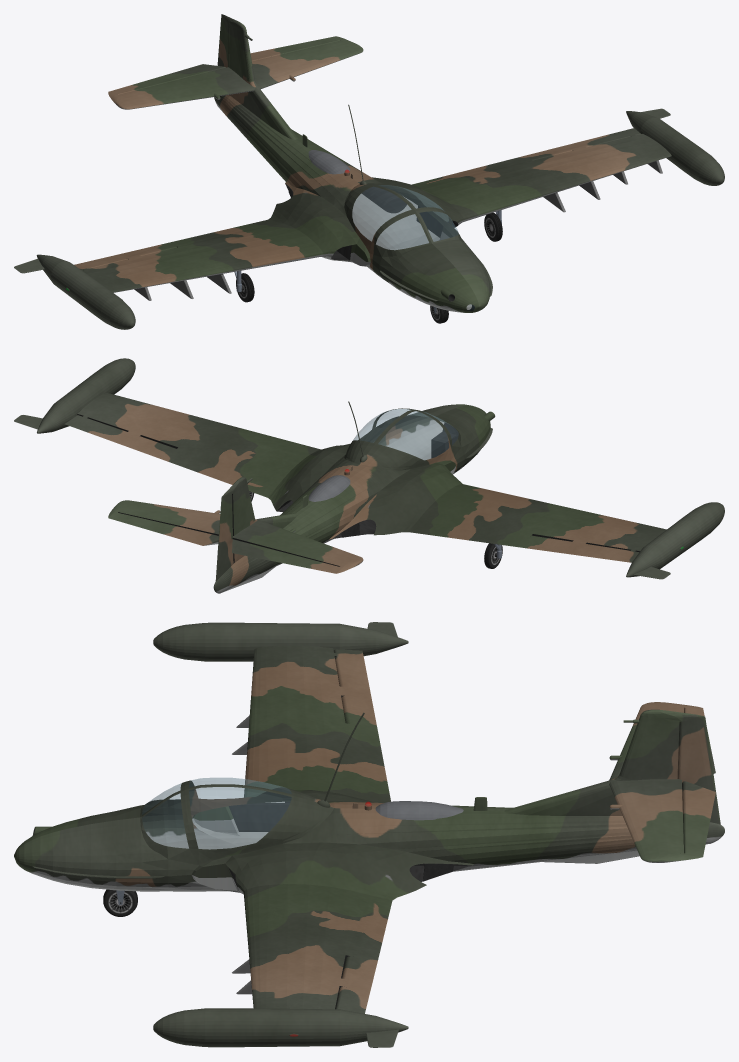
3 renders of one model, top to bottom at view 1: azimuth 30°, elevation 25°; view 2: azimuth 150°, elevation 25°; view 3: azimuth 270°, elevation 25°, orthographic. The views are drawn at different scales.
Parts seen in each view (by area): view 1: ailes, fuselage, tiptanks, ailes2, HDRverriere, profondeur, HDRvitres, trous, pylons, aileronG, aileronD, tourverriere (+2 smaller); view 2: ailes, fuselage, tiptanks, ailes2, profondeur, HDRverriere, trous, aileronG, aileronD, direction, voletD, voletG (+2 smaller); view 3: ailes, fuselage, tiptanks, ailes2, HDRverriere, direction, profondeur, aileronD, trous, aileronG, tourverriere, HDRvitres (+6 smaller).
Part boxes in pixels (left/top/right/bottom): ailes: left=81, top=134, right=671, bottom=292; fuselage: left=214, top=23, right=490, bottom=312; tiptanks: left=14, top=108, right=724, bottom=329; ailes2: left=118, top=40, right=363, bottom=109; HDRverriere: left=353, top=185, right=442, bottom=240; profondeur: left=108, top=36, right=363, bottom=109; HDRvitres: left=376, top=212, right=473, bottom=310; trous: left=128, top=150, right=572, bottom=310; pylons: left=134, top=160, right=662, bottom=300; aileronG: left=518, top=128, right=640, bottom=160; aileronD: left=74, top=242, right=178, bottom=270; tourverriere: left=351, top=184, right=450, bottom=244; ailes: left=77, top=393, right=666, bottom=553; fuselage: left=213, top=404, right=495, bottom=593; tiptanks: left=14, top=358, right=724, bottom=579; ailes2: left=118, top=500, right=362, bottom=566; profondeur: left=108, top=500, right=363, bottom=573; HDRverriere: left=354, top=409, right=448, bottom=459; trous: left=77, top=414, right=639, bottom=566; aileronG: left=64, top=415, right=179, bottom=461; aileronD: left=517, top=535, right=639, bottom=562; direction: left=215, top=478, right=241, bottom=581; voletD: left=406, top=520, right=523, bottom=546; voletG: left=170, top=454, right=278, bottom=498; ailes: left=191, top=645, right=473, bottom=1009; fuselage: left=14, top=709, right=724, bottom=891; tiptanks: left=153, top=622, right=408, bottom=1047; ailes2: left=609, top=703, right=683, bottom=860; HDRverriere: left=189, top=778, right=290, bottom=848; direction: left=653, top=709, right=720, bottom=823; profondeur: left=645, top=702, right=715, bottom=862; aileronD: left=334, top=649, right=377, bottom=731; trous: left=33, top=656, right=471, bottom=1009; aileronG: left=335, top=954, right=377, bottom=1013; tourverriere: left=185, top=780, right=295, bottom=851; HDRvitres: left=142, top=784, right=188, bottom=847.
Size of the model in its own units: 11.97 by 2.7 by 8.46.
4 materials, 4 textured.
